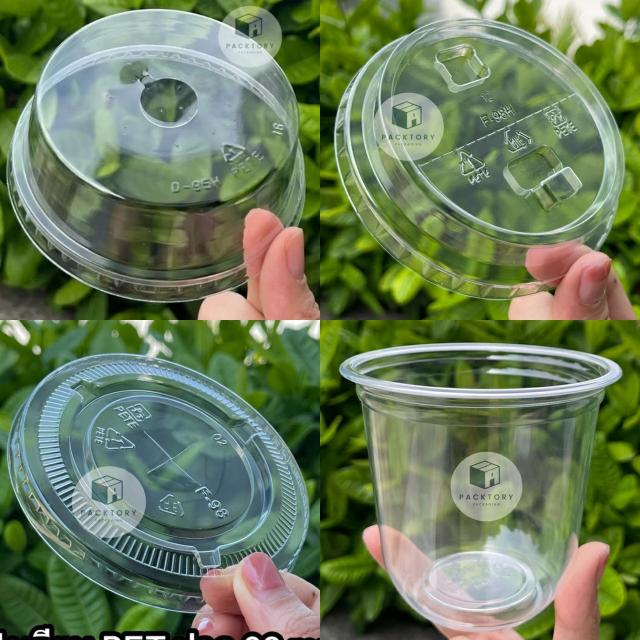Single-Use-Plastic: (8, 11, 305, 301), (340, 342, 621, 631), (335, 20, 624, 298), (9, 354, 309, 612)
